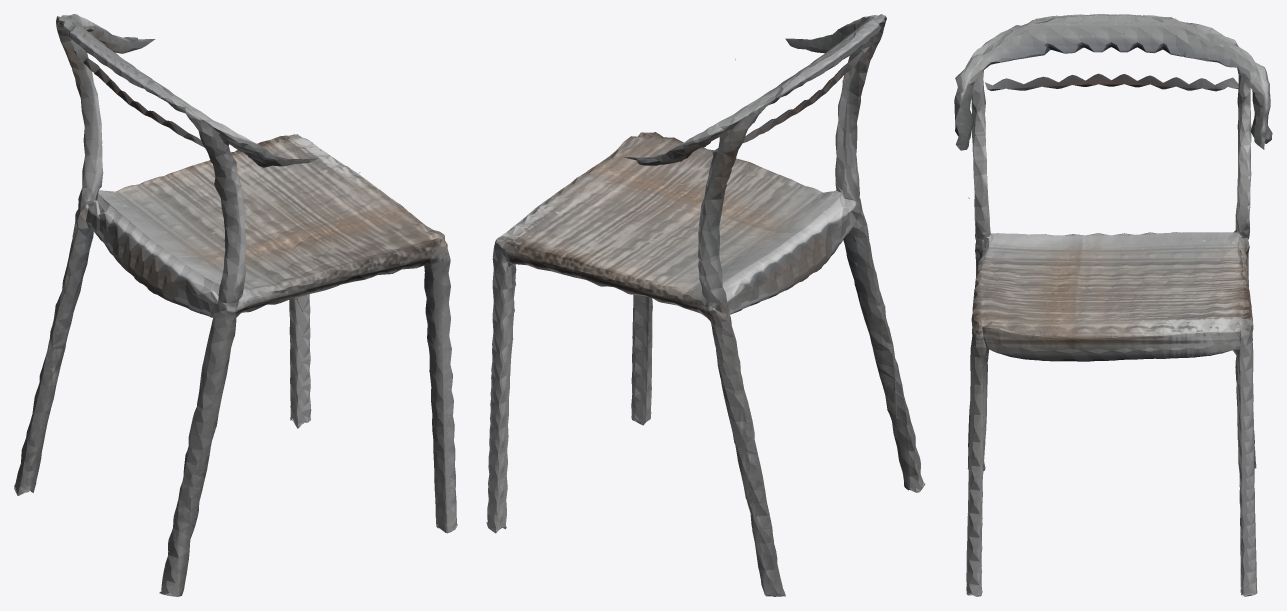
File: elem_94_115_206_213_7_9.obj
3 views of the same model, side by side, from view 1: azimuth 30°, elevation 25°; view 2: azimuth 150°, elevation 25°; view 3: azimuth 270°, elevation 25° (orthographic). The views are drawn at different scales.
Bounding box in the file's own units: 0.4408 × 0.6971 × 0.4376.
1 material, 1 textured.
